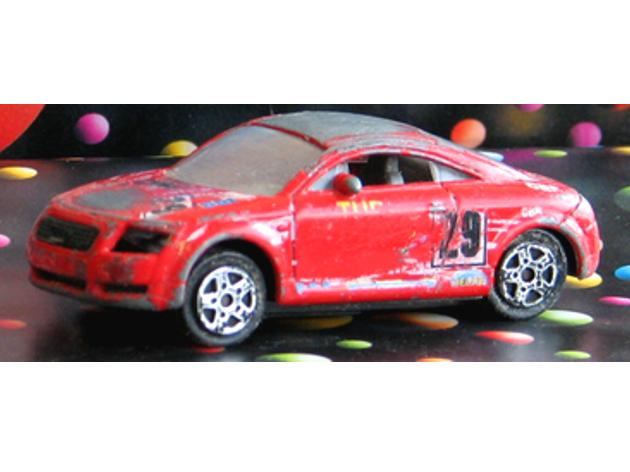toy-car: (24, 109, 603, 346)
